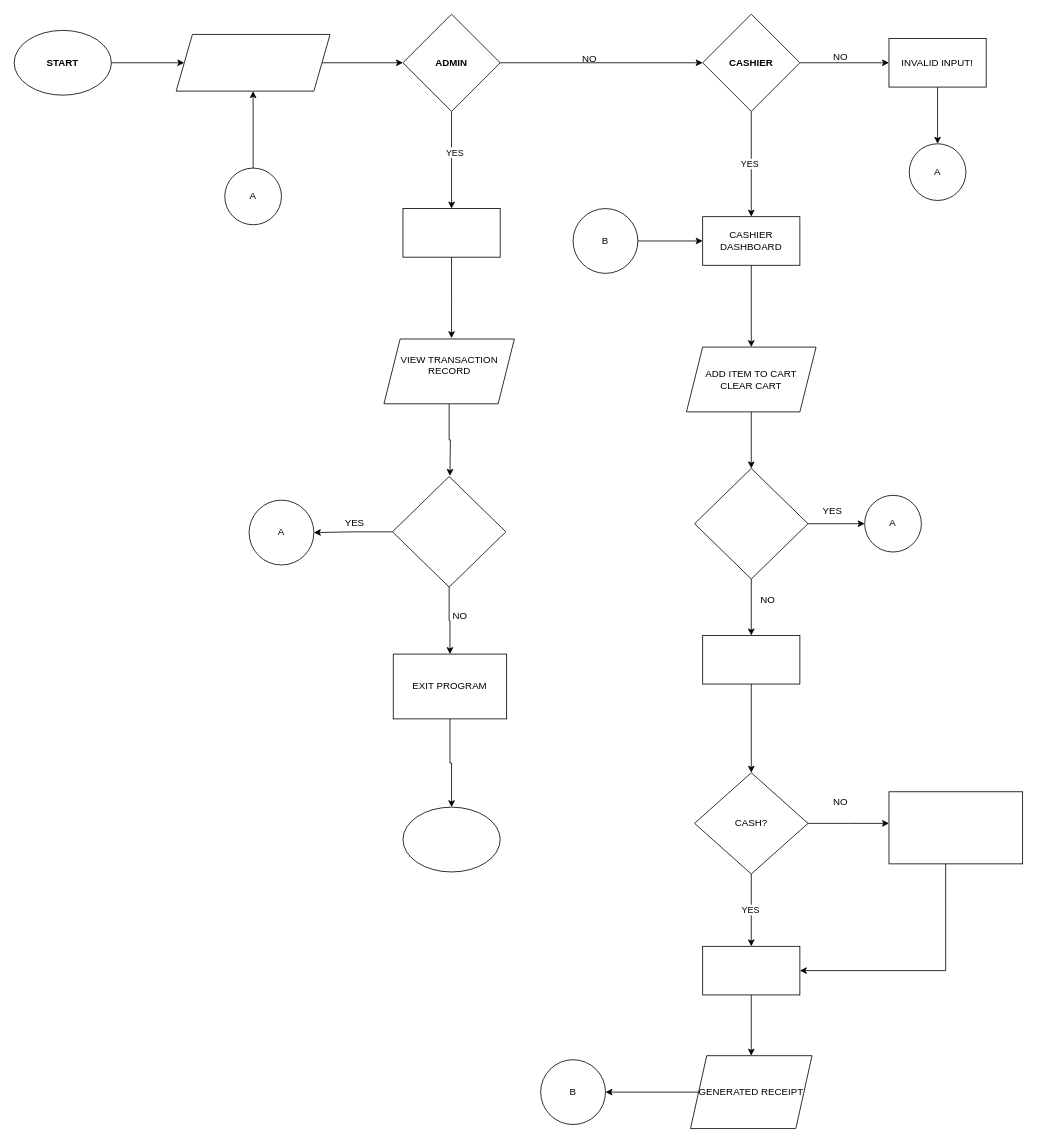
The diagram is 1037 pixels wide and 1143 high, and some of its shapes have lost their labels. The shapes that lost their labels are listed below. From the top down, each one's centre as x and y in pixels, then its label:
At pixel 252 62: "ENTER USER (ADMIN OR CASHIER) ENTER PASSWORD".
At pixel 451 232: "ADMIN DASHBOARD".
At pixel 449 531: "BACK TO LOG-IN".
At pixel 751 523: "CANCEL?".
At pixel 751 659: "DONE - CHECKOUT".
At pixel 451 839: "END".
At pixel 955 827: "DIGITAL PAYMENT".
At pixel 751 970: "PROCESS PAYMENT".
